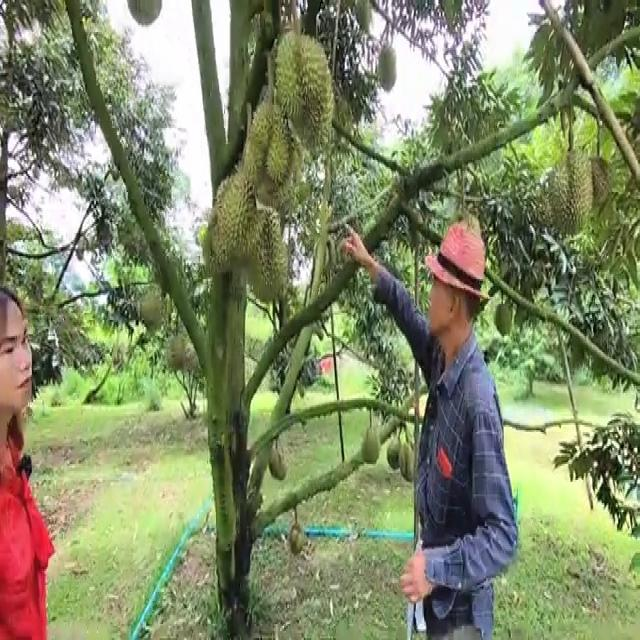durian: (267, 26, 337, 162), (242, 196, 296, 309), (238, 90, 292, 200), (205, 157, 258, 265), (548, 140, 596, 242), (582, 149, 614, 221), (374, 36, 400, 95), (123, 1, 168, 31), (359, 420, 382, 467), (165, 333, 188, 374), (399, 440, 418, 489), (267, 448, 290, 483), (386, 434, 406, 472), (286, 520, 305, 558)
